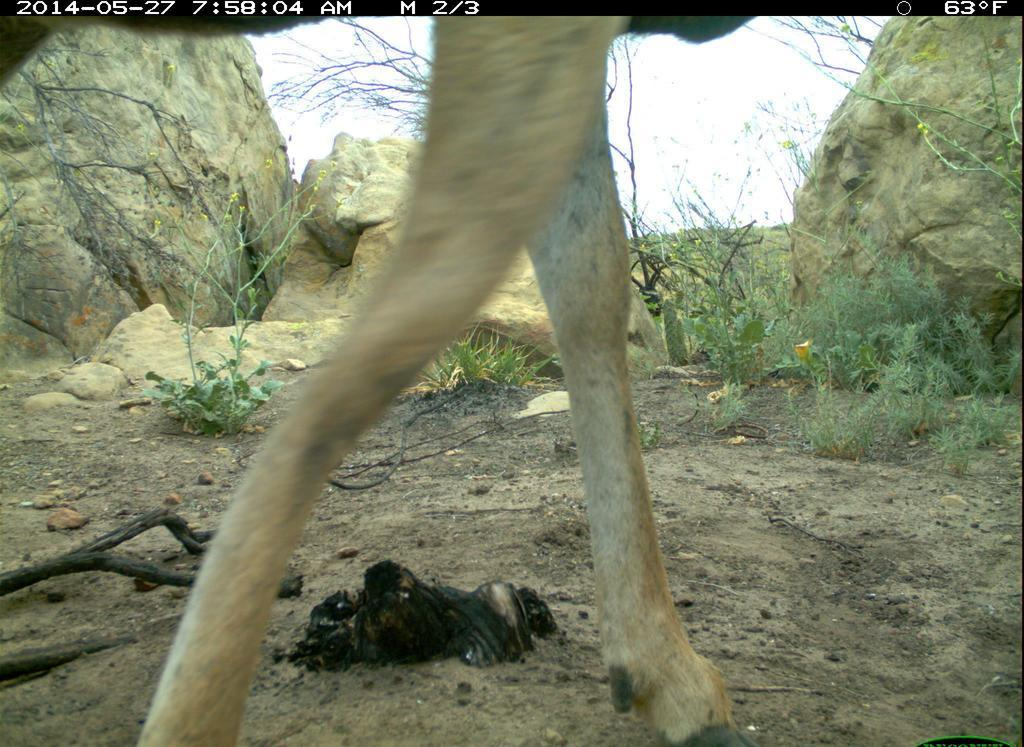deer: (99, 12, 775, 744)
